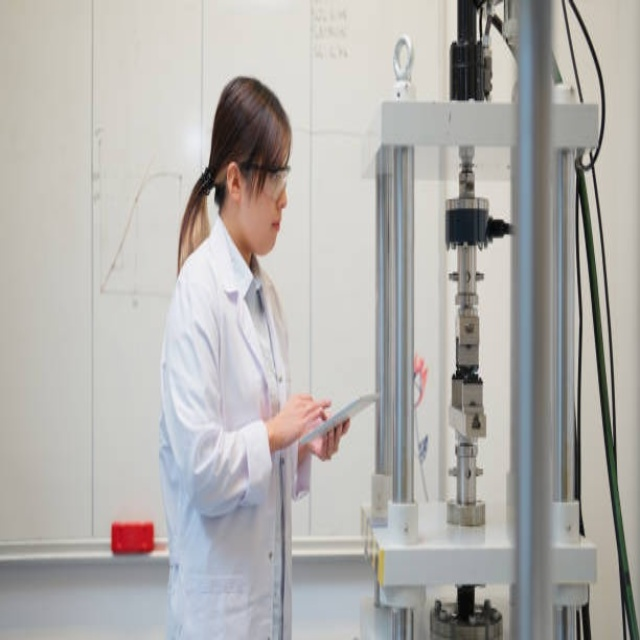Gafas: (239, 161, 292, 200)
Sin_guantes: (282, 387, 333, 443), (319, 420, 347, 458)
Sin_mascara: (258, 207, 284, 253)
